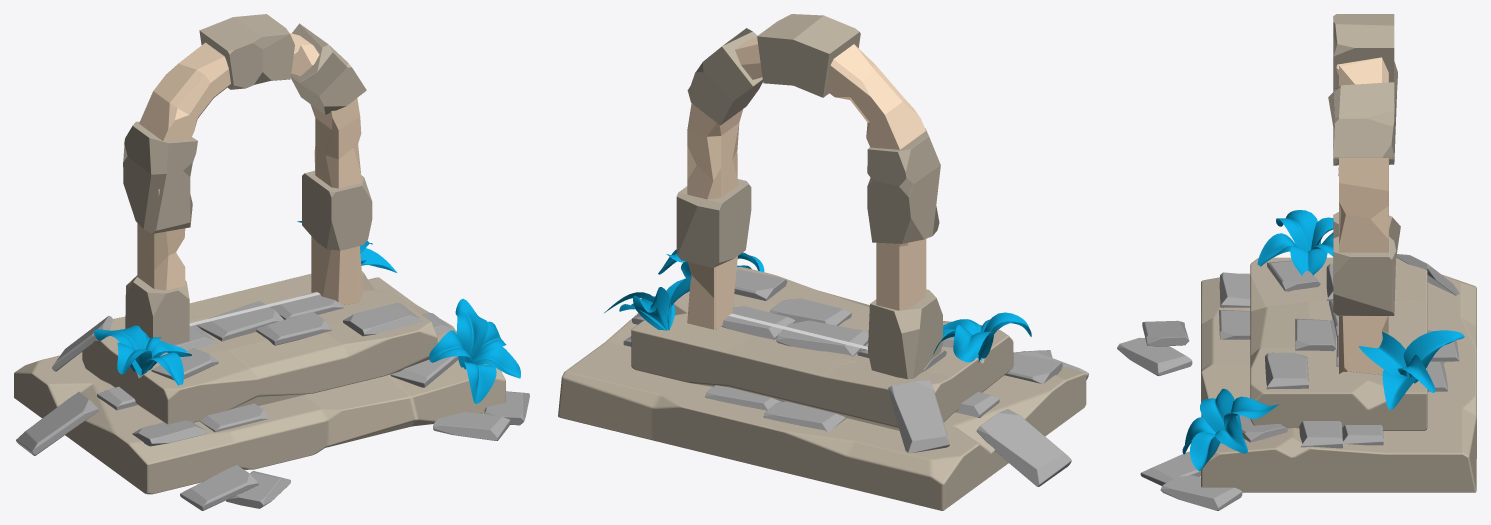
Rendered from portal2.fbx.
3 views of the same model, side by side, from view 1: azimuth 30°, elevation 25°; view 2: azimuth 150°, elevation 25°; view 3: azimuth 270°, elevation 25° (orthographic). The views are drawn at different scales.
Parts seen in each view (by area): view 1: Plane.004, Plane.001, Plane.002, Plane, Plane.008, Plane.006, Cube.009, Cube.019, Cube.003, Cube.016, Stone Slab, Cube.015 (+9 smaller); view 2: Plane.004, Plane.001, Plane.002, Plane, Cube.009, Cube.014, Plane.006, Cube.003, Plane.007, Cube.013, Cube.015, Cube.005 (+4 smaller); view 3: Plane.004, Plane.002, Plane.001, Plane, Plane.008, Plane.007, Plane.006, Cube.017, Cube.018, Stone Slab, Cube.015, Cube.011 (+10 smaller).
Part boxes in pixels (x1=…): Plane.004: x1=14, y1=277, x2=505, y2=494; Plane.001: x1=123, y1=14, x2=372, y2=344; Plane.002: x1=82, y1=271, x2=437, y2=424; Plane: x1=137, y1=33, x2=363, y2=304; Plane.008: x1=429, y1=298, x2=520, y2=403; Plane.006: x1=94, y1=325, x2=191, y2=385; Cube.009: x1=16, y1=391, x2=99, y2=455; Cube.019: x1=180, y1=465, x2=258, y2=510; Cube.003: x1=196, y1=301, x2=283, y2=341; Cube.016: x1=433, y1=412, x2=510, y2=440; Stone Slab: x1=343, y1=303, x2=422, y2=336; Cube.015: x1=256, y1=312, x2=331, y2=345; Plane.004: x1=558, y1=313, x2=1086, y2=510; Plane.001: x1=676, y1=14, x2=942, y2=379; Plane.002: x1=631, y1=267, x2=1013, y2=430; Plane: x1=687, y1=36, x2=926, y2=329; Cube.009: x1=976, y1=409, x2=1071, y2=486; Cube.014: x1=888, y1=380, x2=949, y2=453; Plane.006: x1=933, y1=312, x2=1031, y2=362; Cube.003: x1=776, y1=320, x2=868, y2=356; Plane.007: x1=604, y1=275, x2=691, y2=330; Cube.013: x1=763, y1=401, x2=846, y2=431; Cube.015: x1=770, y1=298, x2=851, y2=325; Cube.005: x1=721, y1=306, x2=795, y2=339; Plane.004: x1=1201, y1=273, x2=1476, y2=492; Plane.002: x1=1250, y1=257, x2=1427, y2=430; Plane.001: x1=1328, y1=14, x2=1400, y2=315; Plane: x1=1336, y1=57, x2=1388, y2=375; Plane.008: x1=1182, y1=388, x2=1278, y2=471; Plane.007: x1=1358, y1=330, x2=1464, y2=409; Plane.006: x1=1257, y1=210, x2=1333, y2=275; Cube.017: x1=1160, y1=475, x2=1242, y2=510; Cube.018: x1=1117, y1=337, x2=1192, y2=375; Stone Slab: x1=1265, y1=352, x2=1308, y2=389; Cube.015: x1=1295, y1=318, x2=1336, y2=351; Cube.011: x1=1299, y1=421, x2=1342, y2=448.
Size of the model in its own units: 592 by 475 by 406.
